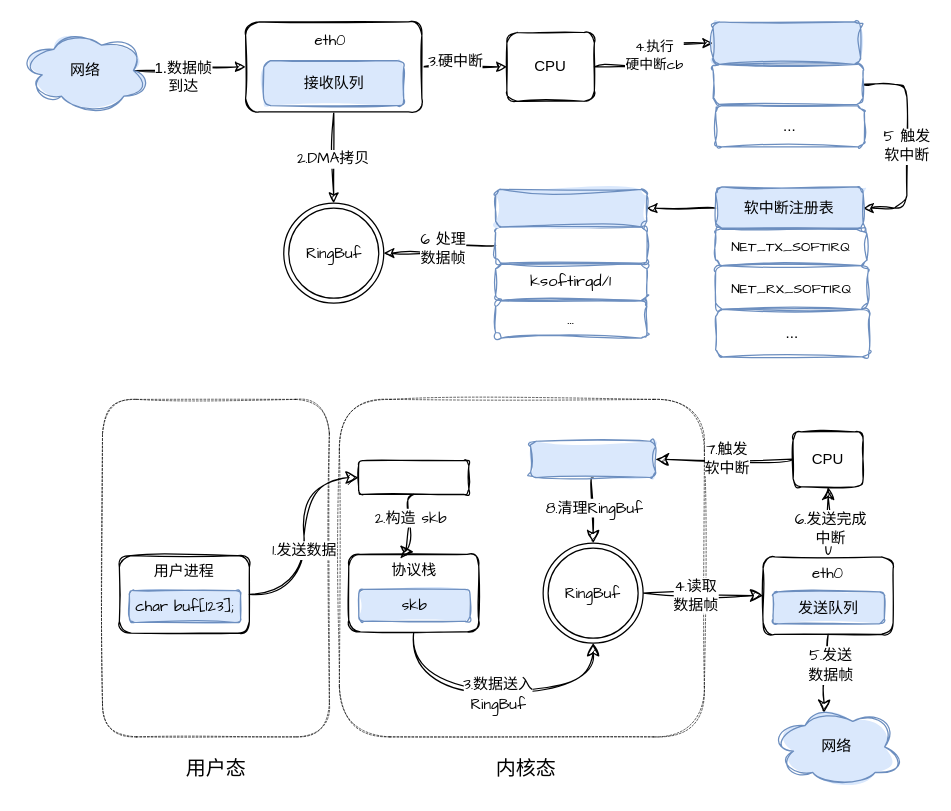
Image size: 951x811. Some labels were removed from this diagram. The box of each missing label's shape, as (x1, y1, x2, y2) in pixels:
igb_msix_ring: (712, 63, 863, 104)
ksoftirqd/0: (494, 226, 647, 264)
ksoftirqd/x: (529, 440, 656, 478)
硬中断注册表: (712, 21, 861, 64)
系统调用 send: (357, 459, 469, 494)
软中断线程: (494, 188, 647, 227)
